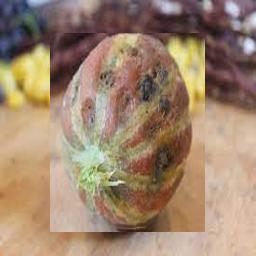Melon Rotten: (50, 33, 205, 232)
